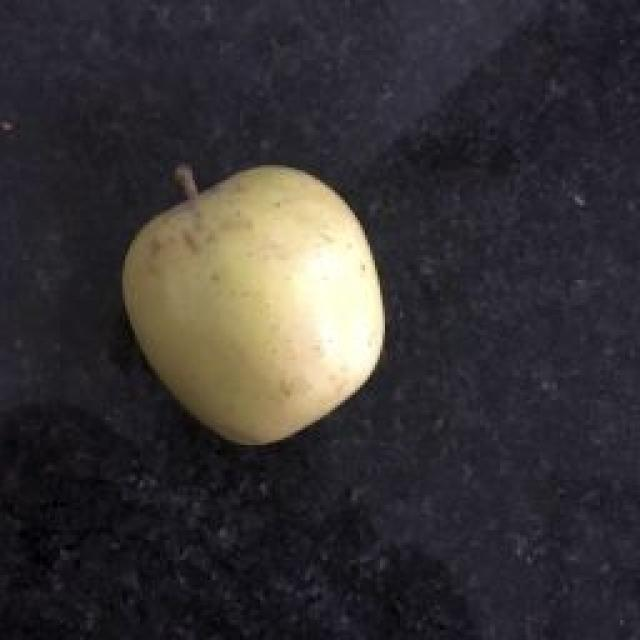Good_Apple: (120, 165, 388, 450)
